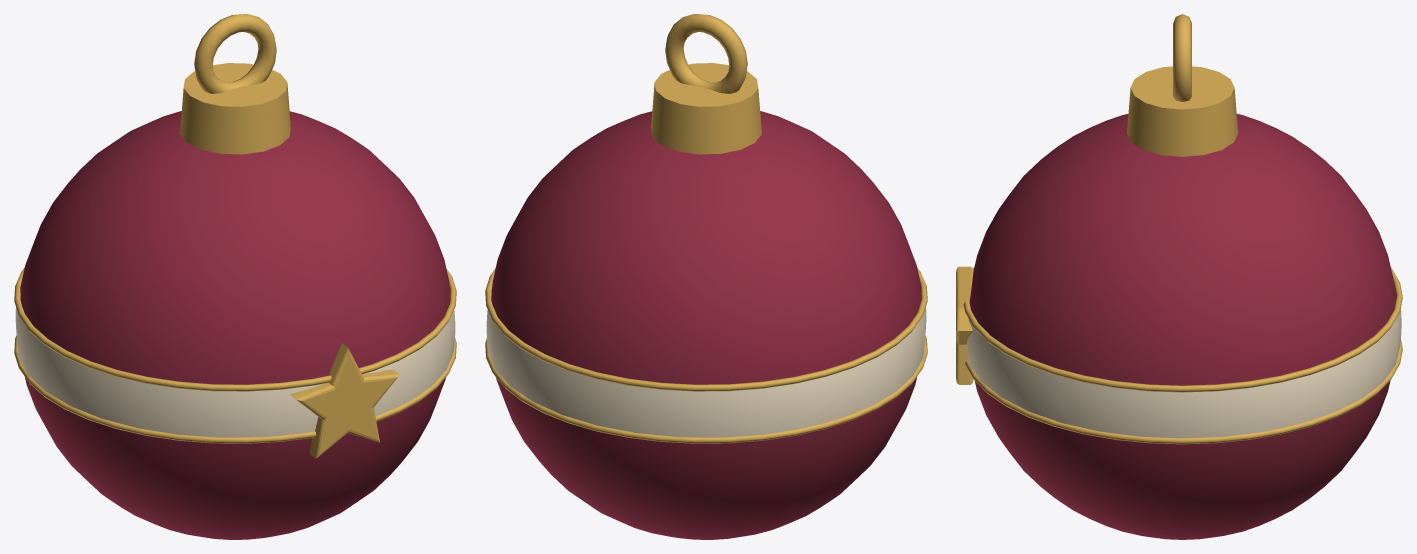
Rendered from bauble.glb.
3 views of the same model, side by side, from view 1: azimuth 30°, elevation 25°; view 2: azimuth 150°, elevation 25°; view 3: azimuth 270°, elevation 25° (orthographic).
Visible parts, largest first — view 1: Bauble; view 2: Bauble; view 3: Bauble.
Boxes of the visible parts, box(x1,y1,x2,y2) form: Bauble: box(14, 14, 456, 539); Bauble: box(485, 14, 927, 539); Bauble: box(956, 14, 1402, 539).
Size of the model in its own units: 1.02 by 1.28 by 1.03.
